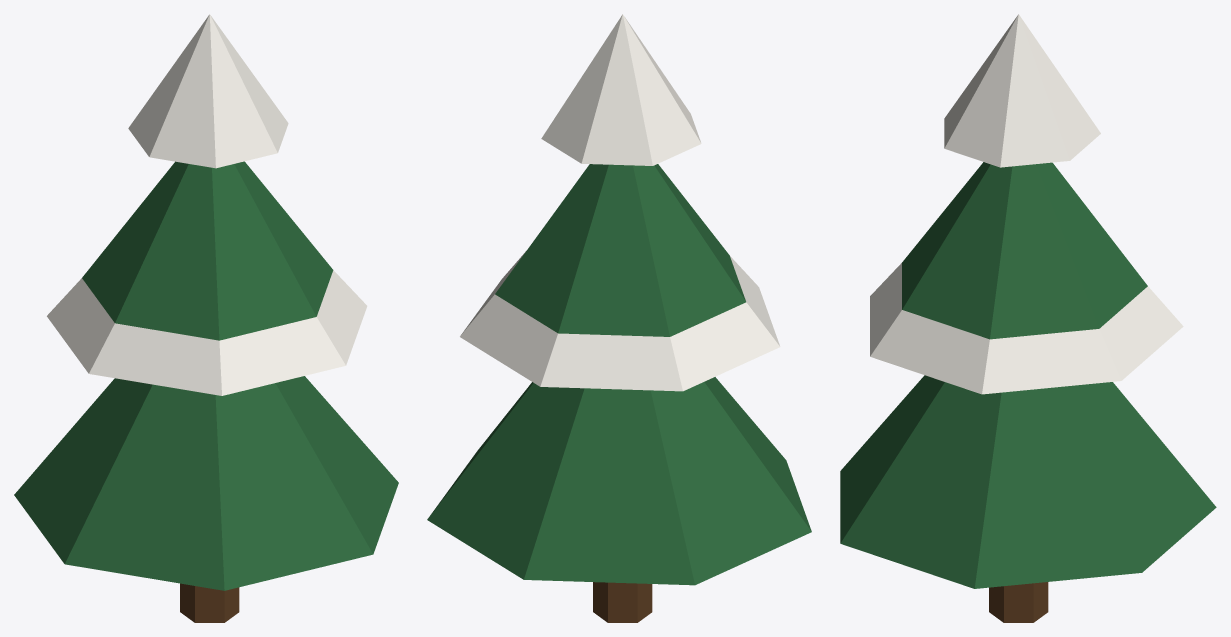
The model's file is tree_snowpine.glb.
3 renders of one model, left to right at view 1: azimuth 30°, elevation 25°; view 2: azimuth 150°, elevation 25°; view 3: azimuth 270°, elevation 25°, orthographic.
Visible parts, largest first — view 1: tree_snowpine; view 2: tree_snowpine; view 3: tree_snowpine.
Part boxes in pixels (box(x1,y1,x2,y2)): tree_snowpine: box(14, 14, 398, 622); tree_snowpine: box(427, 14, 811, 622); tree_snowpine: box(840, 14, 1216, 622).
Size of the model in its own units: 1.17 by 2 by 1.14.
1 material, 1 textured.
